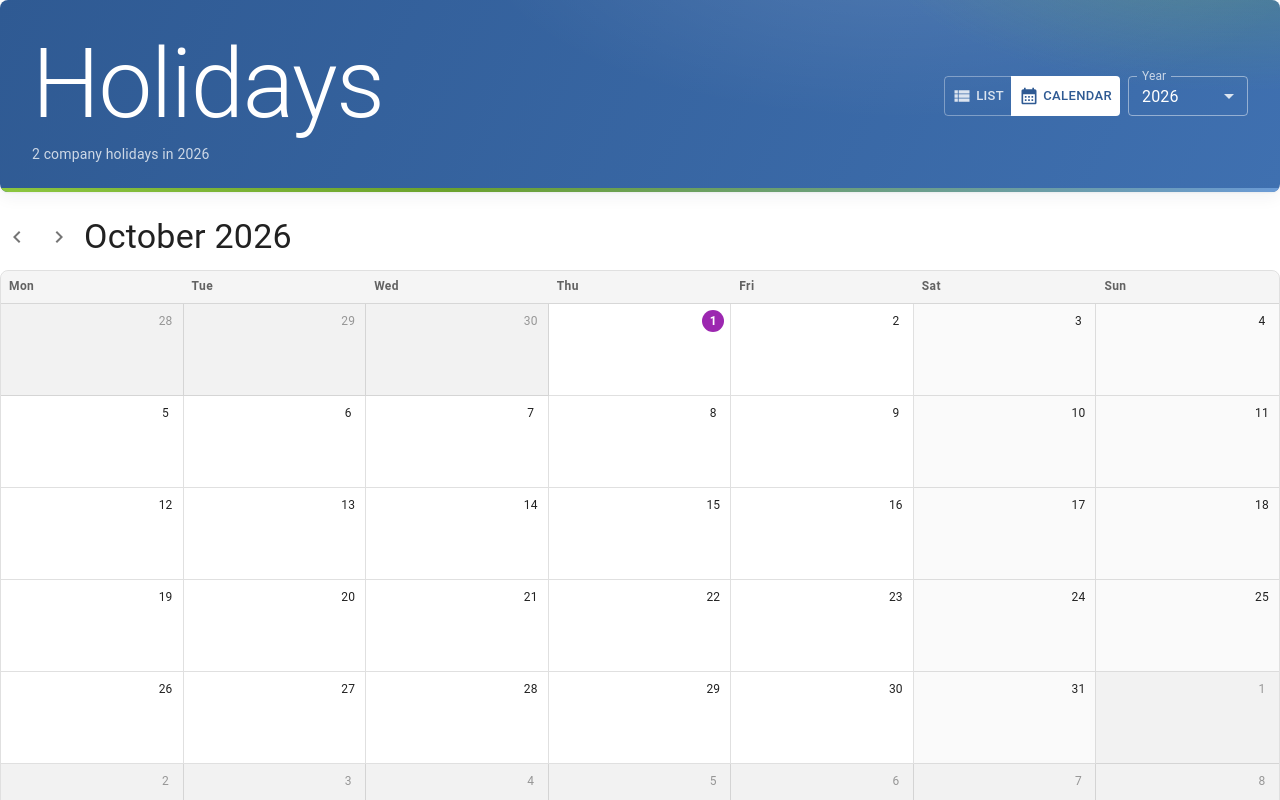
HolidaysPage month cards › offers nothing to expand when the month fits
Click the button "List". click: (978, 96)
box: top-left (944, 76), bottom-right (1012, 116)
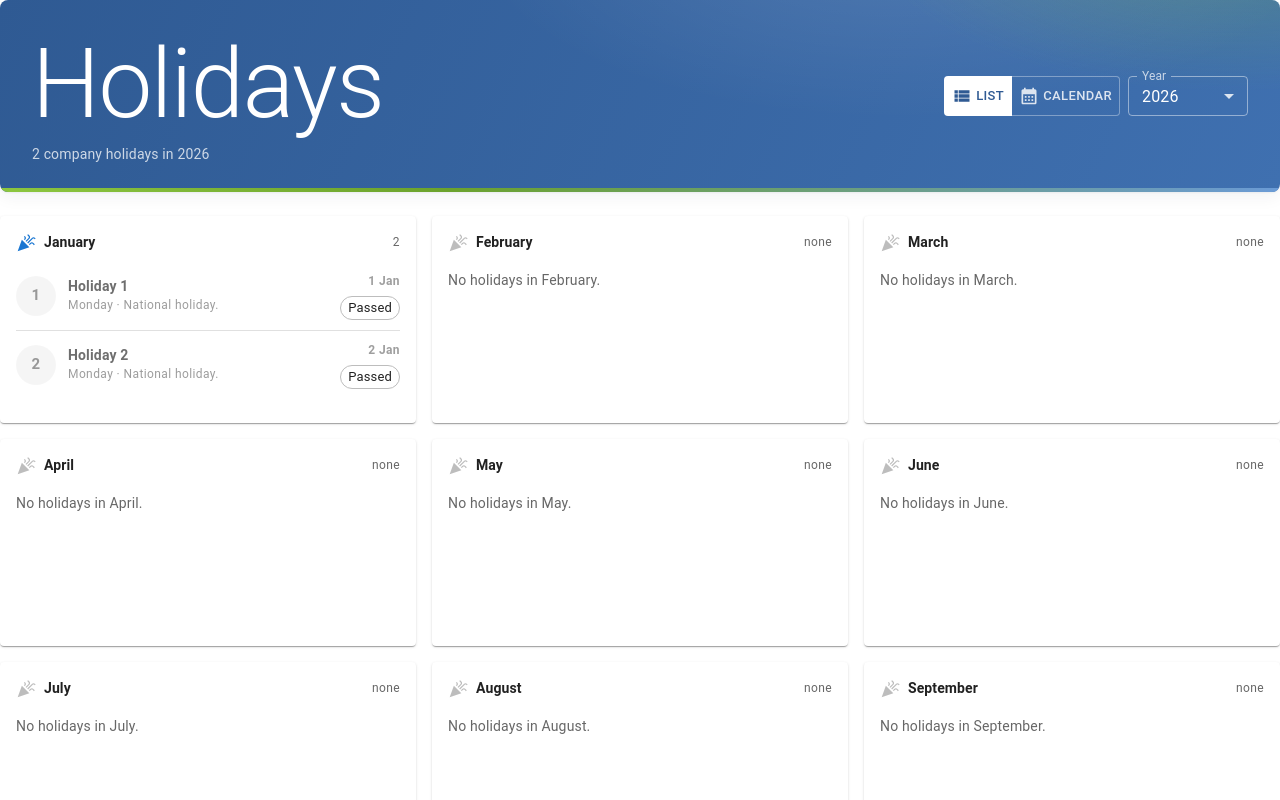
Expected: the text "Holiday 1" is shown, top-left (68, 276), bottom-right (128, 296)
Expected: the text "Holiday 2" is shown, top-left (68, 345), bottom-right (128, 365)
